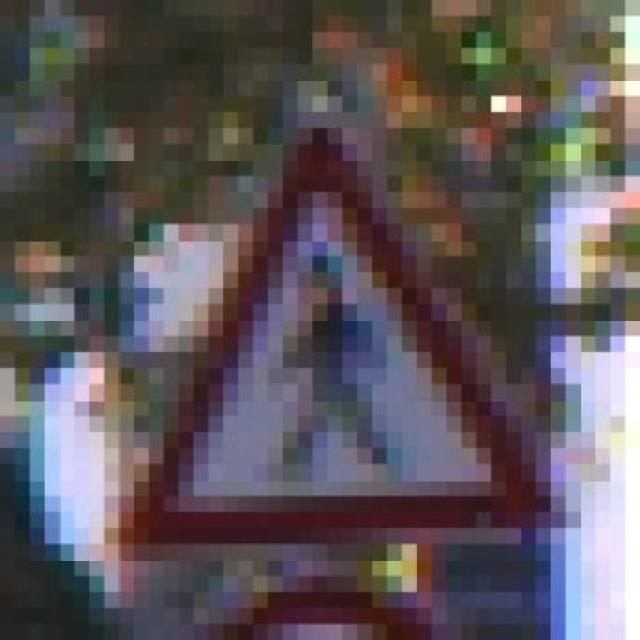Pedestrian Crossing: (74, 112, 595, 560)
